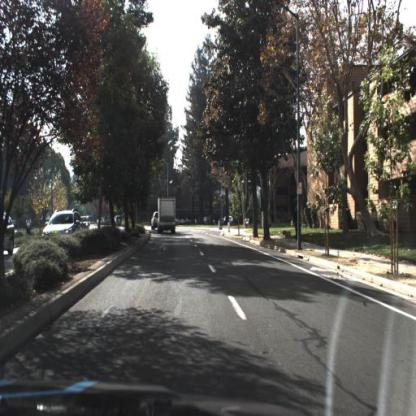car: (43, 209, 83, 247), (2, 211, 18, 259), (78, 215, 94, 234), (149, 210, 161, 234)
pedestrian: (290, 204, 300, 244), (27, 216, 33, 239)
truck: (157, 193, 181, 237)
